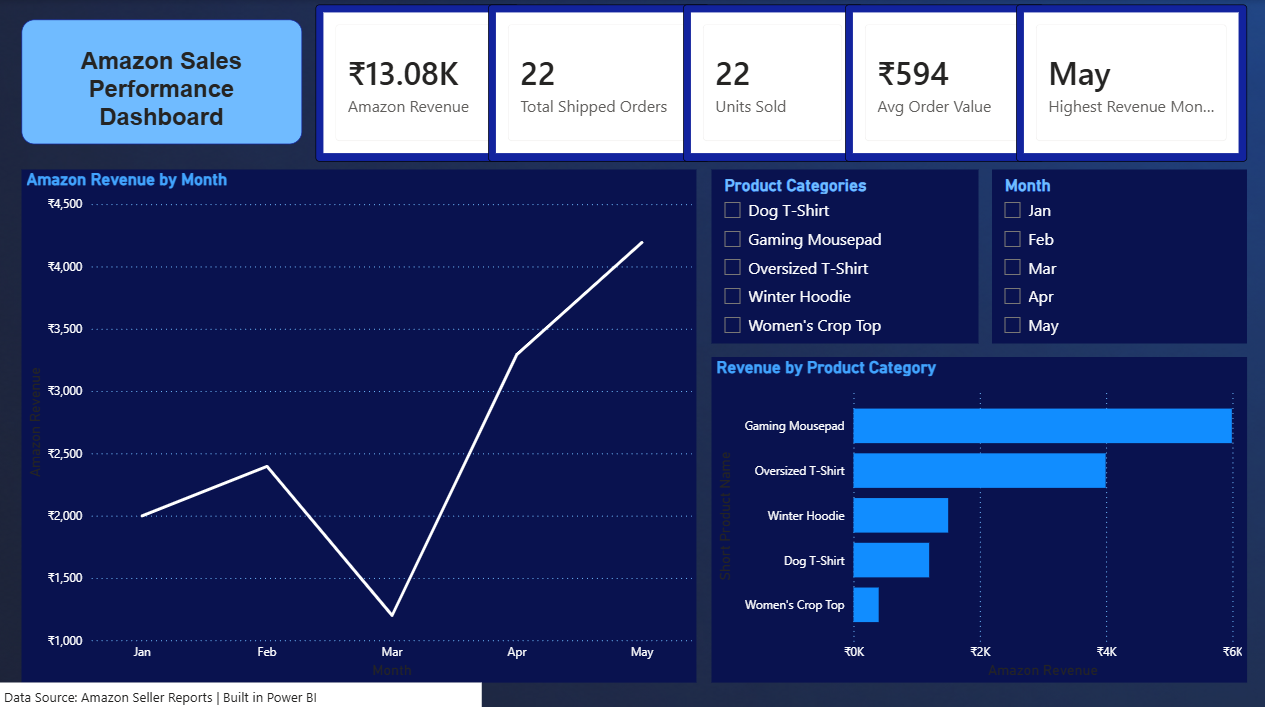

This screenshot's page, from the dashboard's own definition file:
{"tool":"powerbi","page":{"name":"Dashboard","canvas":[1280,720],"ordinal":0},"visuals":[{"type":"cardVisual","fields":{"Data":["DateTable.Amazon Revenue"]},"box":[319.5,4.5,205.9,159],"z":0},{"type":"cardVisual","fields":{"Data":["DateTable.Total Shipped Orders"]},"box":[493.6,4.5,224.1,159],"z":1000},{"type":"cardVisual","fields":{"Data":["DateTable.Units Sold"]},"box":[690.5,4.5,181.7,159],"z":2000},{"type":"lineChart","fields":{"Category":["DateTable.Month"],"Y":["DateTable.Amazon Revenue"]},"box":[22.7,171.1,681.4,517.9],"z":3000},{"type":"barChart","title":"Revenue by Product Category","fields":{"Y":["DateTable.Amazon Revenue"],"Category":["Orders.Short Product Name"]},"box":[719.2,360.4,540.6,328.6],"z":4000},{"type":"slicer","fields":{"Values":["DateTable.Month"]},"box":[1002.4,171.1,257.4,175.6],"z":5000},{"type":"slicer","title":"Product Categories","fields":{"Values":["Orders.Short Product Name"]},"box":[719.2,171.1,269.5,175.6],"z":6000},{"type":"textbox","box":[22.7,19.7,283.2,125.7],"z":7000},{"type":"cardVisual","title":"Avg Order Value (₹)","fields":{"Data":["DateTable.Avg Order Value Display"]},"box":[854,4.5,201.4,159],"z":8000},{"type":"textbox","box":[0,689,487.6,30.3],"z":9000},{"type":"cardVisual","fields":{"Data":["DateTable.Latest MoM Growth %"]},"box":[1026.6,4.5,233.2,159],"z":10000}]}

Visuals, with their boxes in screenshot pixels (x1, y1, x2, y2), scaled from the page's 1280x720 canvas onto the 1265x707 screenshot:
cardVisual - DateTable.Amazon Revenue: (x1=316, y1=4, x2=519, y2=161)
cardVisual - DateTable.Total Shipped Orders: (x1=488, y1=4, x2=709, y2=161)
cardVisual - DateTable.Units Sold: (x1=682, y1=4, x2=862, y2=161)
lineChart - DateTable.Month x DateTable.Amazon Revenue: (x1=22, y1=168, x2=696, y2=677)
"Revenue by Product Category" barChart: (x1=711, y1=354, x2=1245, y2=677)
slicer - DateTable.Month: (x1=991, y1=168, x2=1245, y2=340)
"Product Categories" slicer: (x1=711, y1=168, x2=977, y2=340)
textbox: (x1=22, y1=19, x2=302, y2=143)
"Avg Order Value (₹)" cardVisual: (x1=844, y1=4, x2=1043, y2=161)
textbox: (x1=0, y1=677, x2=482, y2=706)
cardVisual - DateTable.Latest MoM Growth %: (x1=1015, y1=4, x2=1245, y2=161)
